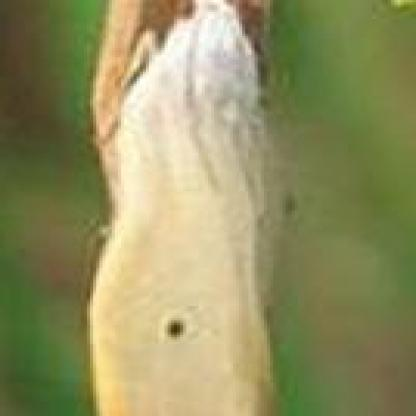stem-borer: (85, 0, 288, 416)
